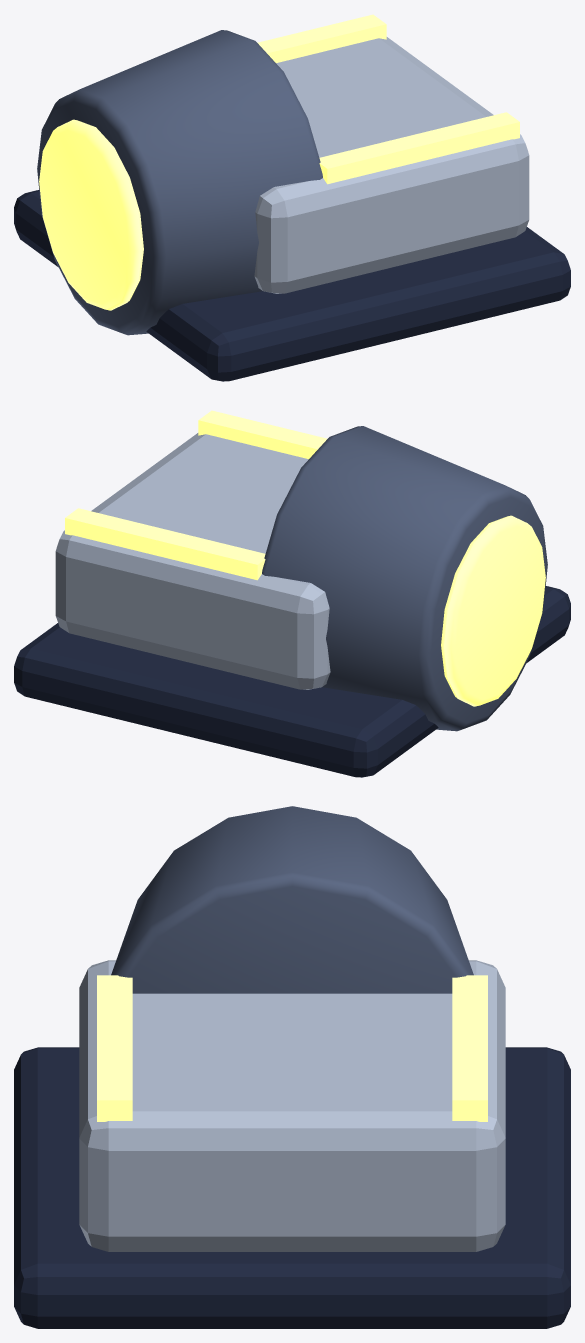
Rendered from mod_main_thruster.glb.
3 renders of one model, top to bottom at view 1: azimuth 30°, elevation 25°; view 2: azimuth 150°, elevation 25°; view 3: azimuth 270°, elevation 25°, orthographic. The views are drawn at different scales.
Visible parts, largest first — view 1: mod_main_thruster; view 2: mod_main_thruster; view 3: mod_main_thruster.
Boxes of the visible parts, x1,y1,x2,y2 form: mod_main_thruster: (14,14,570,381); mod_main_thruster: (14,410,570,777); mod_main_thruster: (14,806,570,1328).
Bounding box in the file's own units: 1.01 × 0.6743 × 0.94.
